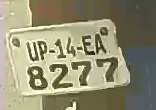1: (54, 36, 66, 60)
2: (48, 62, 72, 90)
4: (64, 36, 77, 58)
7: (70, 59, 95, 89), (96, 56, 118, 85)
8: (24, 65, 50, 91)
A: (93, 33, 108, 55)
E: (80, 33, 96, 57)
P: (36, 39, 49, 60)
U: (25, 42, 40, 62)
